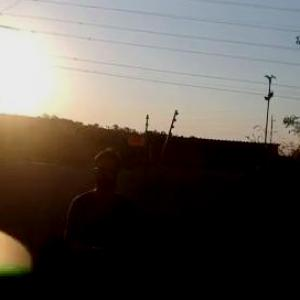follow: (58, 145, 146, 299)
